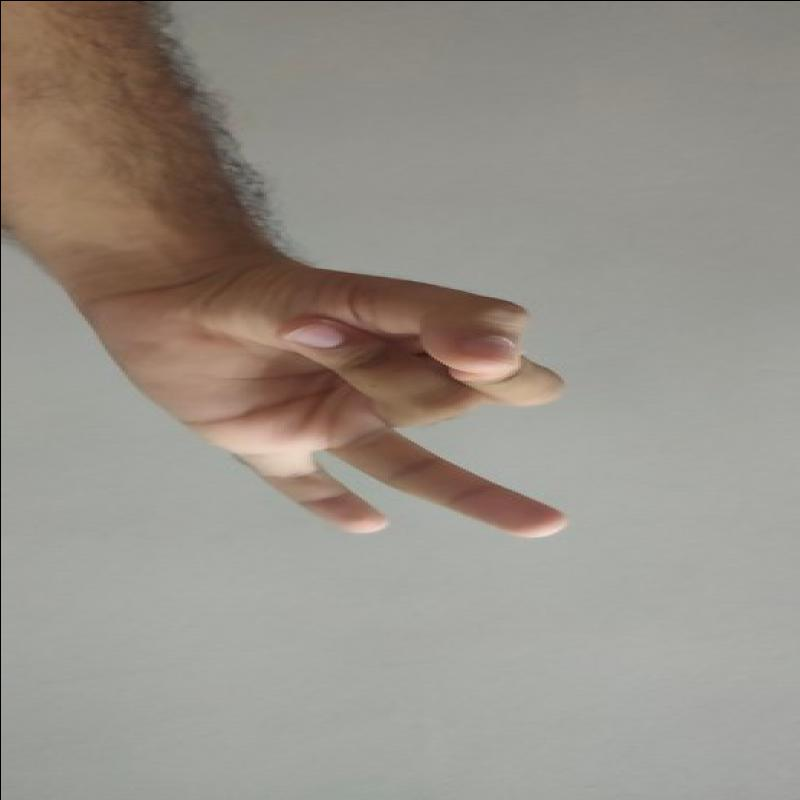Katakam: (99, 267, 594, 587)
